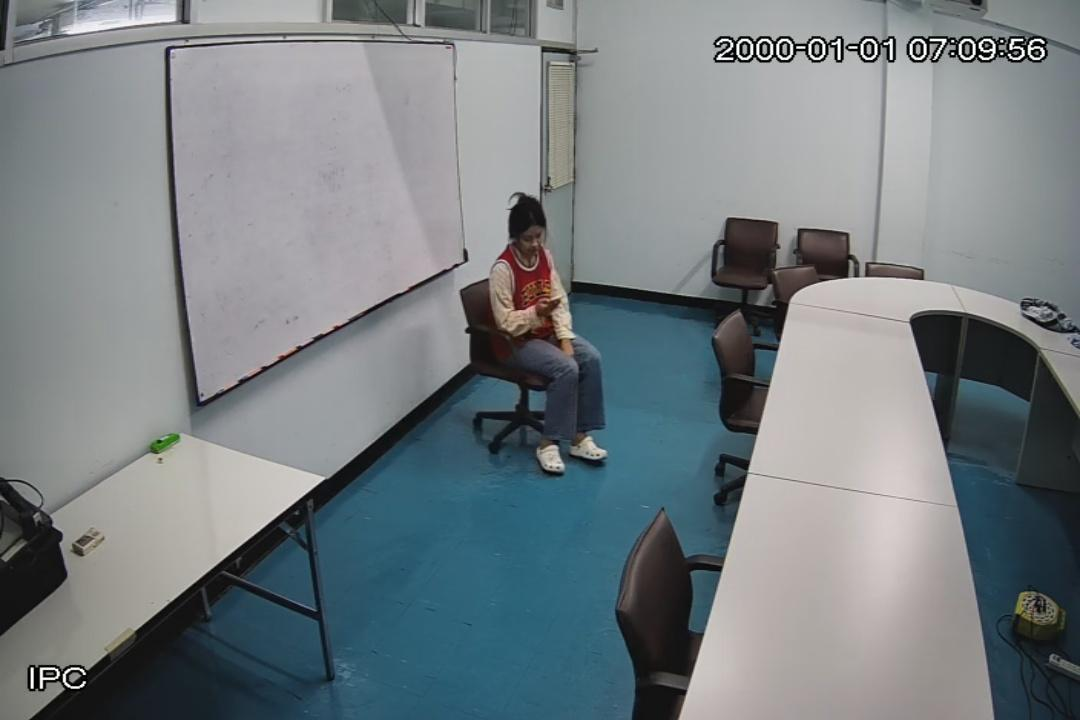normal: (488, 191, 612, 478)
